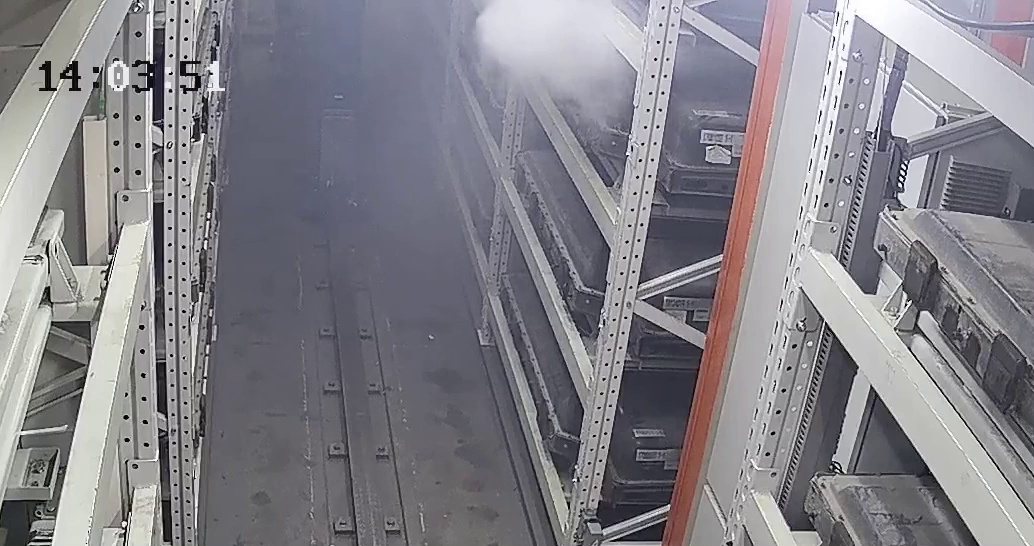smoke: (464, 4, 624, 101)
